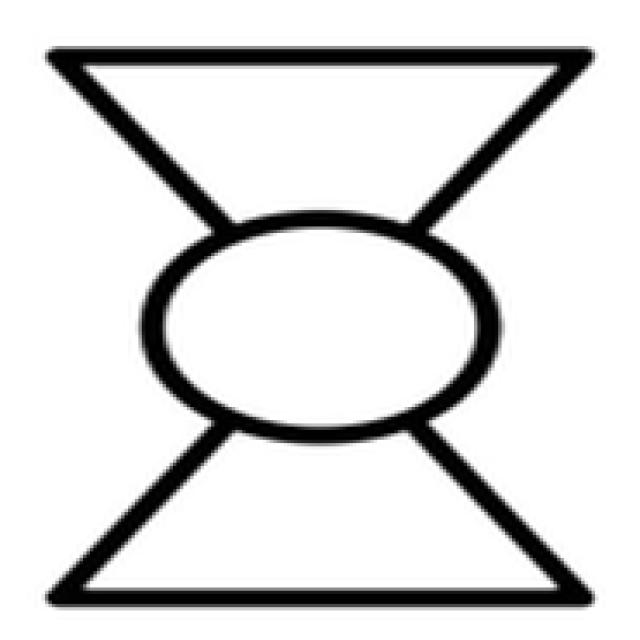ball valve: (55, 54, 594, 596)
